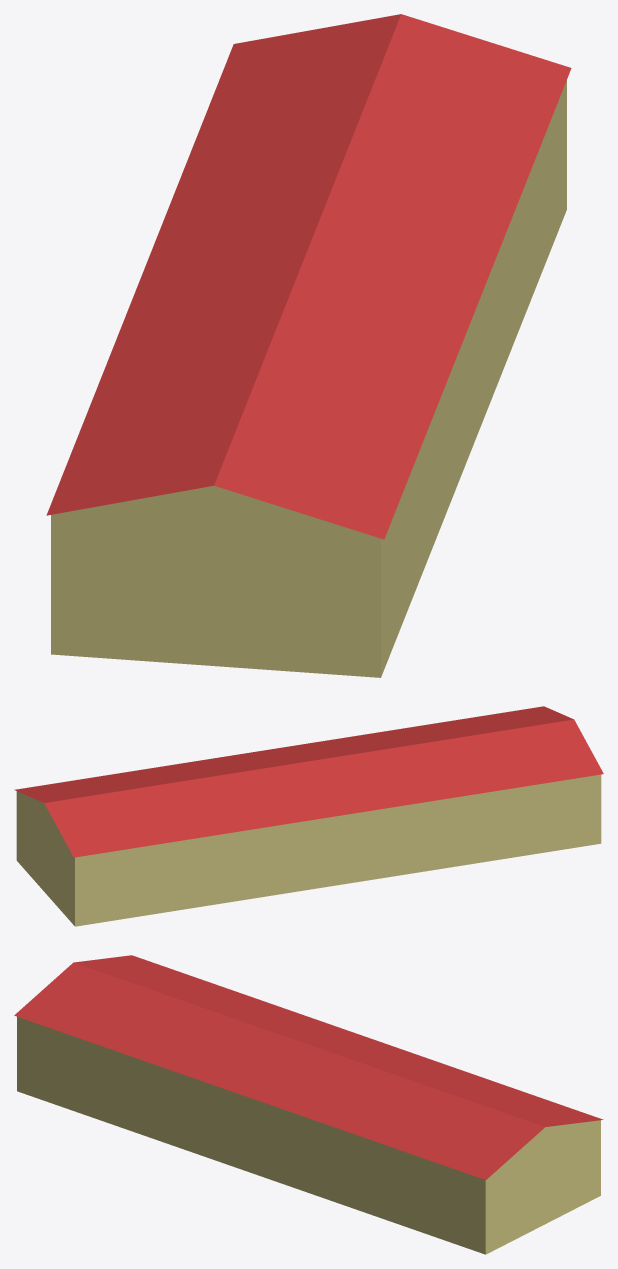
3 views of the same model, one above another, from view 1: azimuth 30°, elevation 25°; view 2: azimuth 150°, elevation 25°; view 3: azimuth 270°, elevation 25° (orthographic). The views are drawn at different scales.
Bounding box in the file's own units: 61.26 × 67.89 × 12.5.
